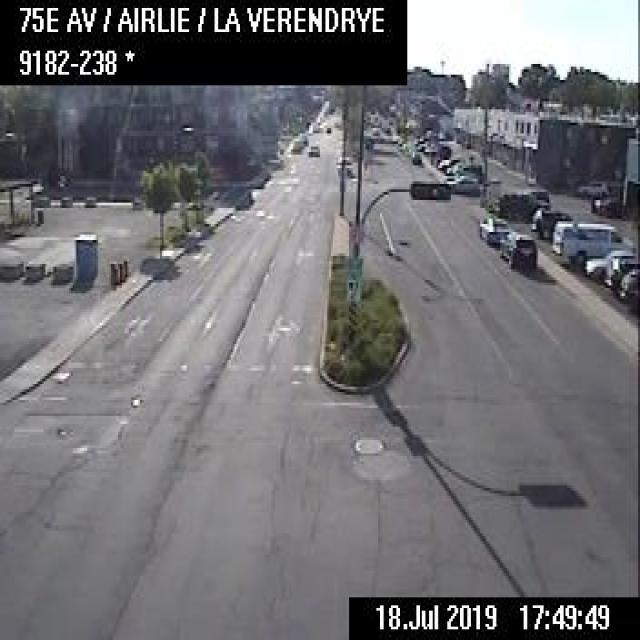construction: (108, 260, 114, 284), (118, 258, 124, 280), (114, 262, 120, 284)
vehicle: (551, 218, 634, 264), (493, 188, 550, 221), (584, 246, 634, 278), (498, 231, 536, 271), (529, 207, 574, 236), (477, 213, 509, 242), (617, 265, 637, 302), (37, 167, 69, 190), (591, 192, 620, 215), (446, 173, 479, 192), (577, 177, 606, 194), (446, 160, 479, 173), (407, 149, 422, 165), (306, 143, 321, 157), (288, 141, 302, 152)
